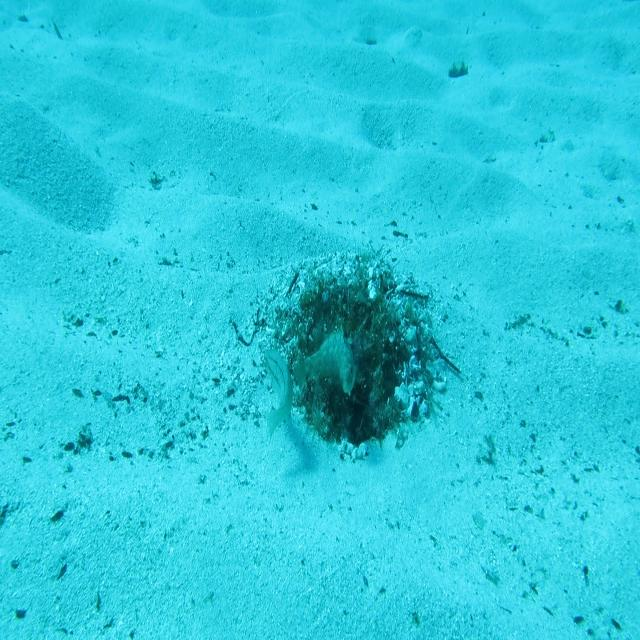BEND: (292, 318, 359, 401)
core_nest: (325, 298, 368, 350)
female: (262, 347, 296, 446)
nest: (246, 234, 452, 483)
vegetation: (446, 61, 468, 81)
